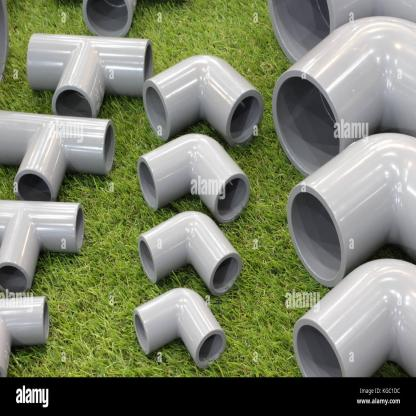PVC: (267, 0, 416, 378), (143, 55, 263, 147), (1, 109, 115, 202), (27, 34, 154, 117), (138, 132, 250, 224), (137, 211, 243, 295), (0, 199, 84, 297), (134, 287, 226, 368), (0, 296, 50, 377), (82, 0, 137, 37), (0, 1, 8, 81)
